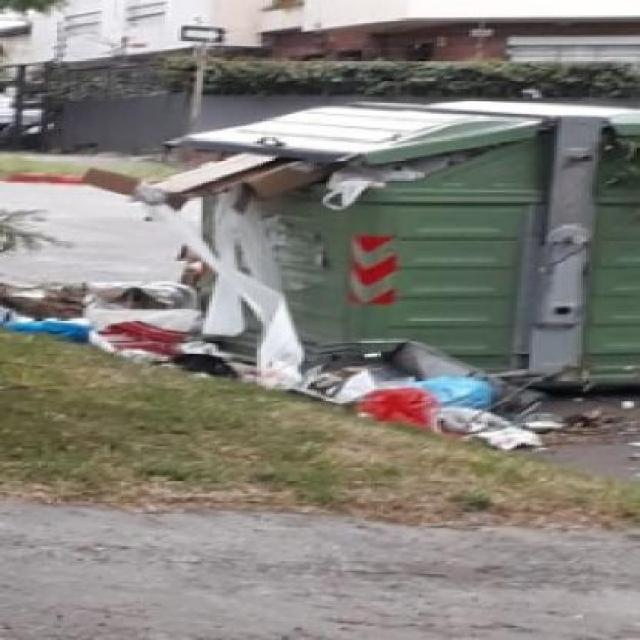garbage: (301, 340, 574, 447), (0, 277, 278, 353), (137, 139, 434, 208)
